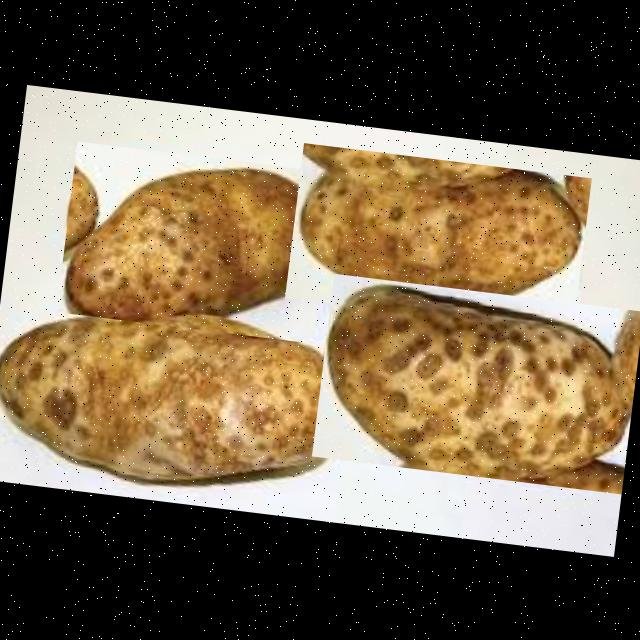Diseased-fungal potato: (0, 288, 353, 503), (311, 273, 640, 494), (284, 143, 592, 333), (56, 141, 333, 343)
